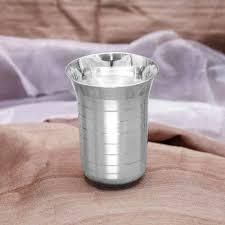glass-tumbler: (65, 52, 160, 189)
